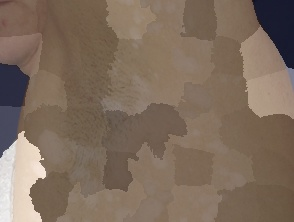vitiligo: (20, 0, 282, 222)
